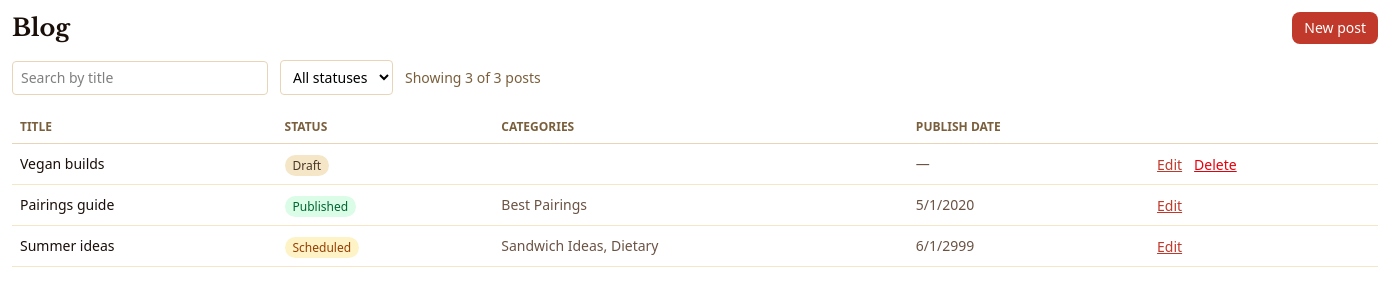
BlogManagementPage deleting › deletes a draft after confirmation
Expected: the text "Vegan builds" is shown, [12, 144, 276, 184]
Click the button with aria-label "Delete Vegan builds".
click(1215, 165)  # box [1194, 155, 1237, 175]
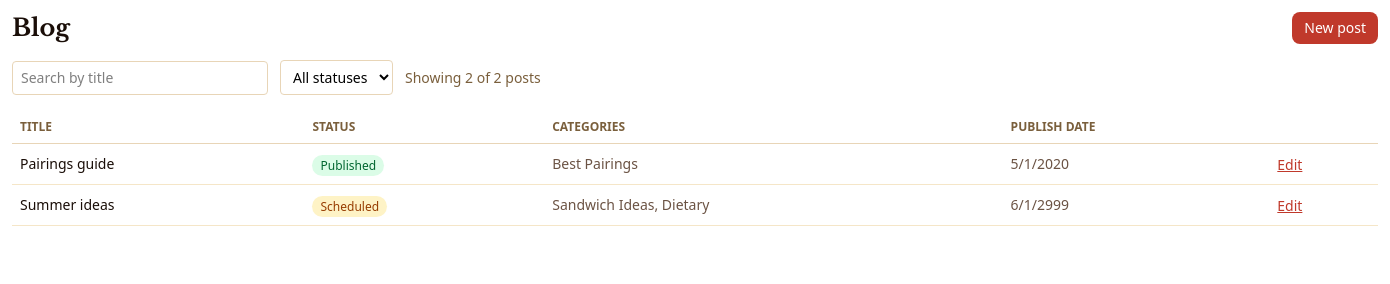
Result: the text "Vegan builds" is gone
